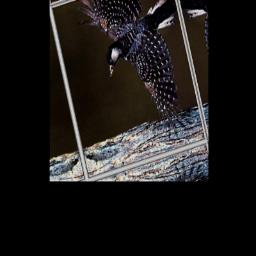Woodpecker: (76, 0, 200, 155)
